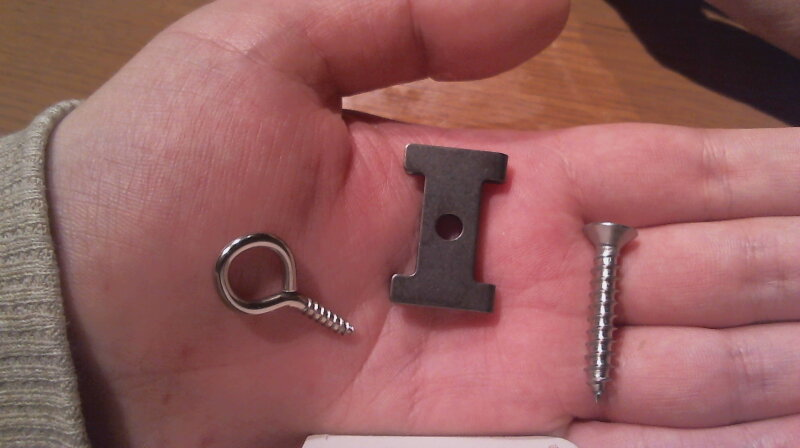O001: (208, 228, 362, 340)
O002: (384, 138, 513, 316)
S001: (574, 214, 639, 400)
